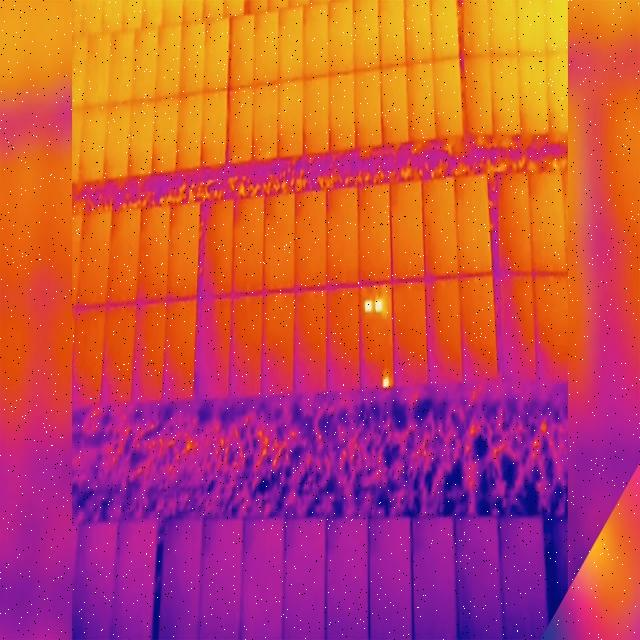Hotspot: (381, 374, 390, 390), (374, 298, 384, 312), (364, 299, 372, 313)
